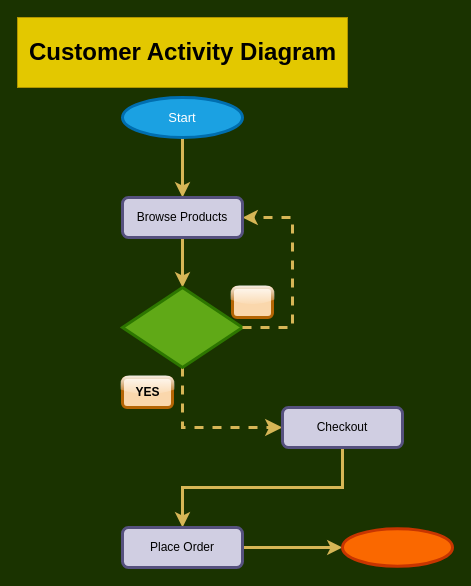
The diagram is 471 pixels wide and 586 high, and some of its shapes have lost their labels. Each missing label, with the centre of its shape:
"Add to Cart" goes at (x=182, y=327).
"End" goes at (x=397, y=547).
"NO" goes at (x=252, y=302).
